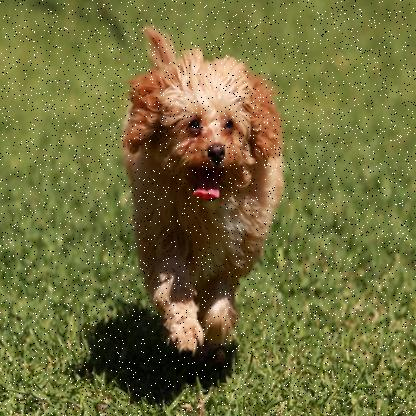dog: (122, 20, 288, 352)
